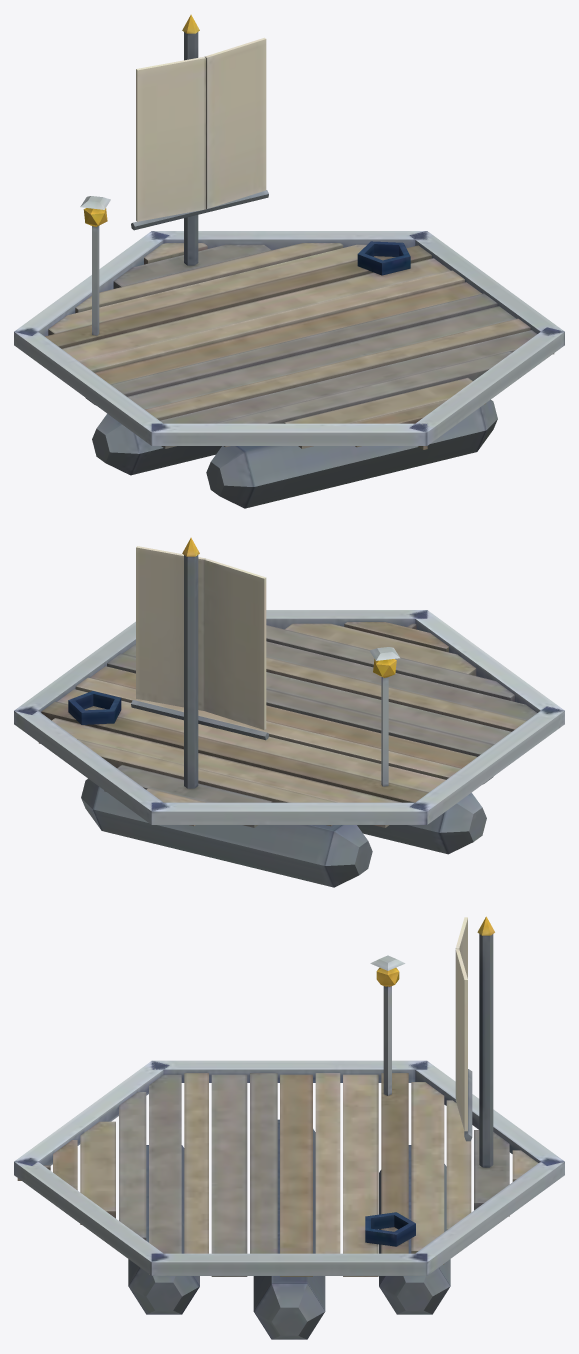
Rendered from raft-a-age20-lite.glb.
3 views of the same model, one above another, from view 1: azimuth 30°, elevation 25°; view 2: azimuth 150°, elevation 25°; view 3: azimuth 270°, elevation 25° (orthographic).
Visible parts, largest first — view 1: raft-a-age20-lite; view 2: raft-a-age20-lite; view 3: raft-a-age20-lite.
Part boxes in pixels (x1,y1,x2,y2): raft-a-age20-lite: [14, 14, 564, 508]; raft-a-age20-lite: [14, 537, 564, 887]; raft-a-age20-lite: [14, 916, 564, 1339].
Bounding box in the file's own units: 1.6 × 1.26 × 1.85.
Materials: 1 (1 with a texture image).
